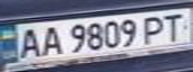0: (103, 17, 124, 50)
8: (84, 19, 106, 52)
9: (63, 20, 87, 54), (118, 16, 142, 47)
A: (12, 26, 45, 60), (36, 24, 66, 57)
P: (139, 12, 172, 44)
T: (157, 10, 190, 42)
